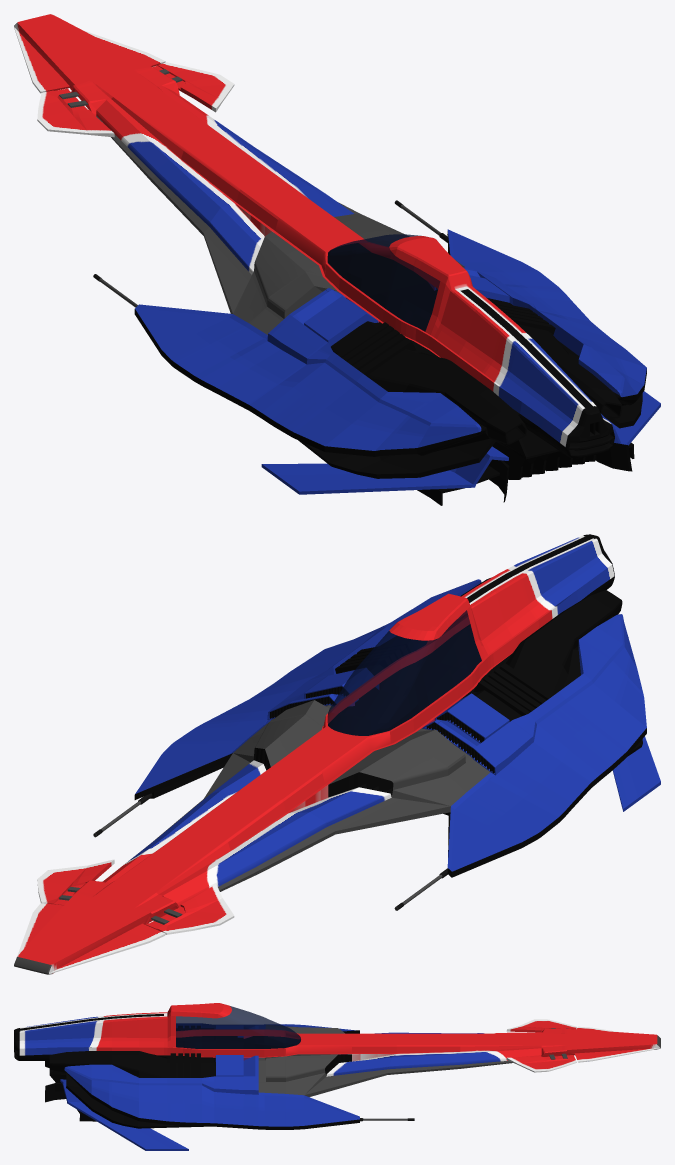
Rendered from vaisseau.obj.
The picture shows the model from 3 angles, top to bottom: view 1: azimuth 30°, elevation 25°; view 2: azimuth 150°, elevation 25°; view 3: azimuth 270°, elevation 25°; orthographic projection. The views are drawn at different scales.
Parts seen in each view (by area): view 1: Caroserrie, Carbon, Fer, Vitre; view 2: Caroserrie, Carbon, Fer, Vitre; view 3: Caroserrie, Carbon, Fer, Vitre.
Boxes of the visible parts, <box> form: Caroserrie: <box>14,14,660,494</box>; Carbon: <box>134,231,646,505</box>; Fer: <box>14,23,464,334</box>; Vitre: <box>327,234,440,331</box>; Caroserrie: <box>17,535,660,974</box>; Carbon: <box>134,534,646,877</box>; Fer: <box>14,700,490,974</box>; Vitre: <box>327,610,481,735</box>; Caroserrie: <box>19,1003,660,1150</box>; Carbon: <box>14,1014,359,1129</box>; Fer: <box>258,1025,660,1097</box>; Vitre: <box>176,1006,300,1048</box>.
Size of the model in its own units: 0.9903 by 0.4163 by 2.64.
5 materials, 1 textured.
